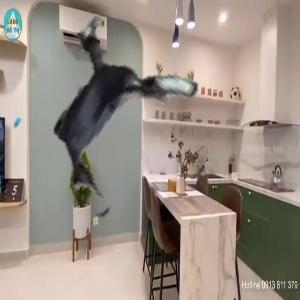drone: (6, 10, 218, 222)
